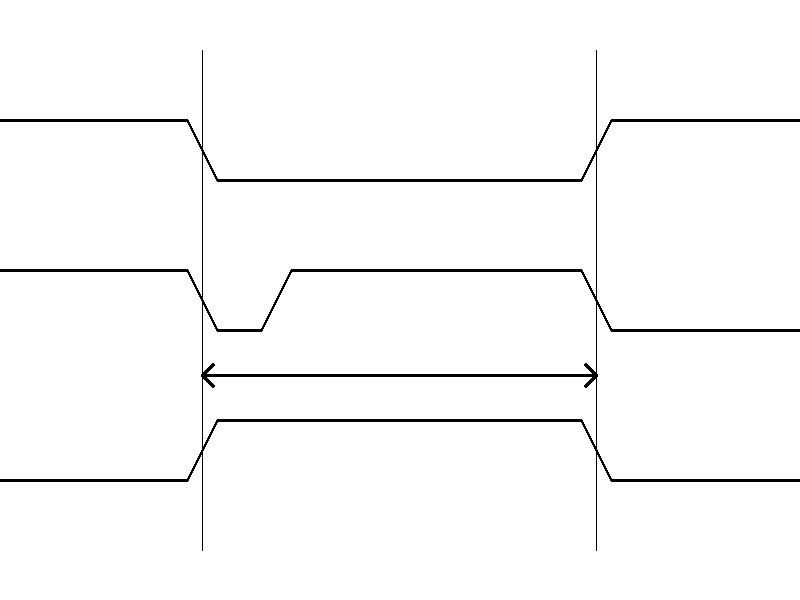double_arrow: (202, 360, 596, 390)
